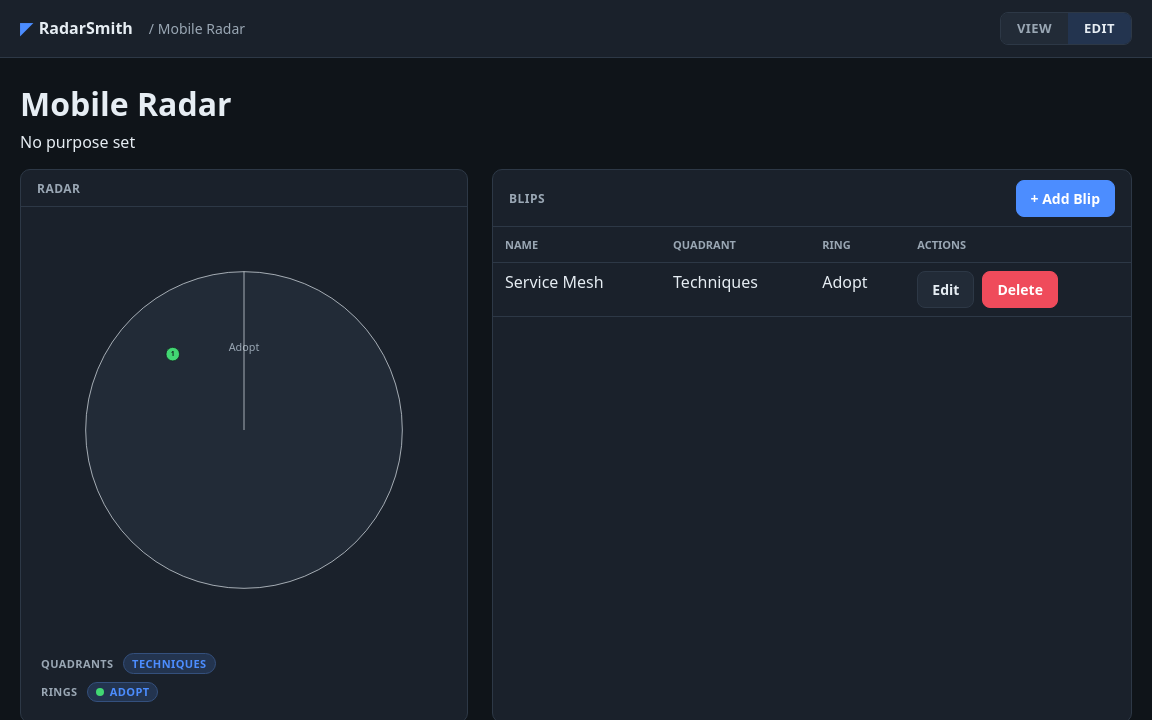
Test: RadarWorkspace › updates a blip in the table from the server-confirmed response
Expected: the cell "Service Mesh" is shown, [493,262,661,316]
Click the button named "Edit Service Mesh" at (946, 289), box [917,270,974,308]
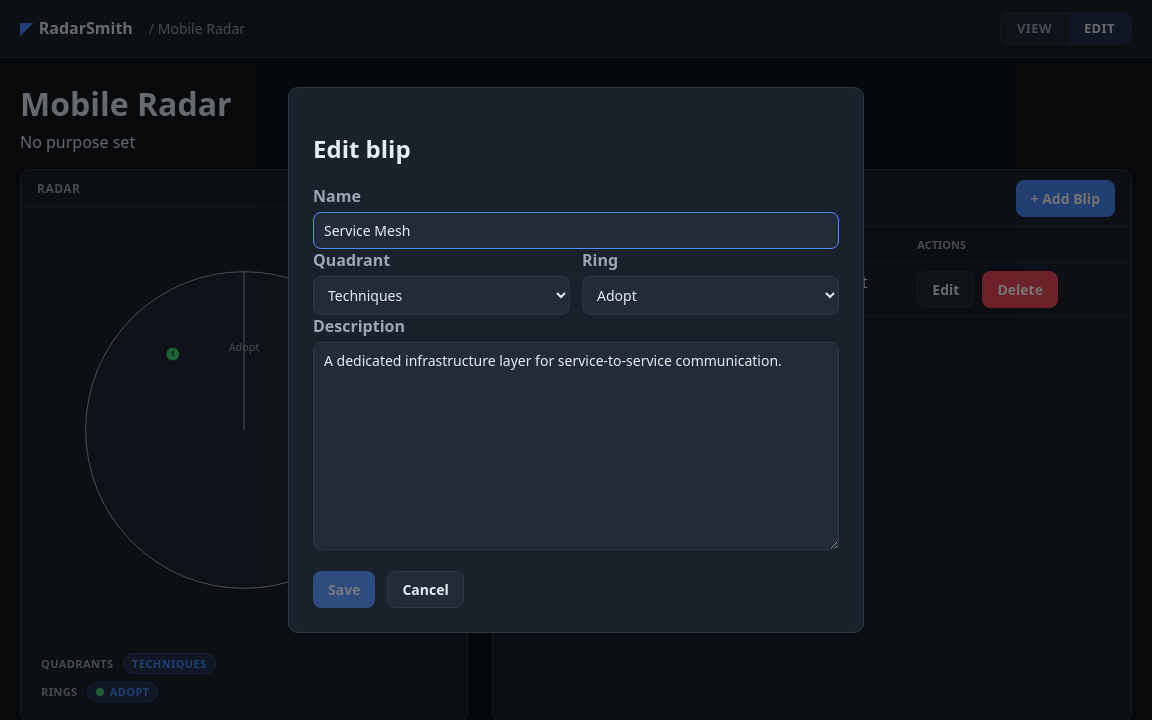
Replace the text in the field labelled "Name" with "Service Mesh v2" at (576, 230), box [313,212,839,249]
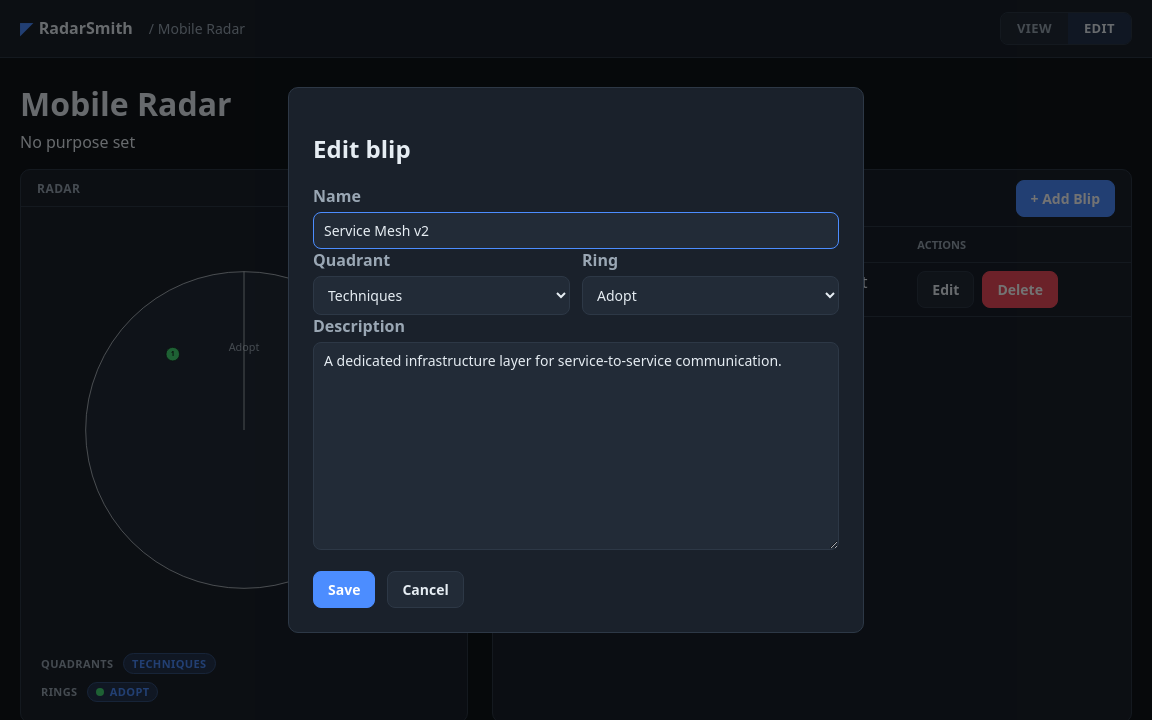
Click the button "Save" at (344, 589), box [313,571,375,608]
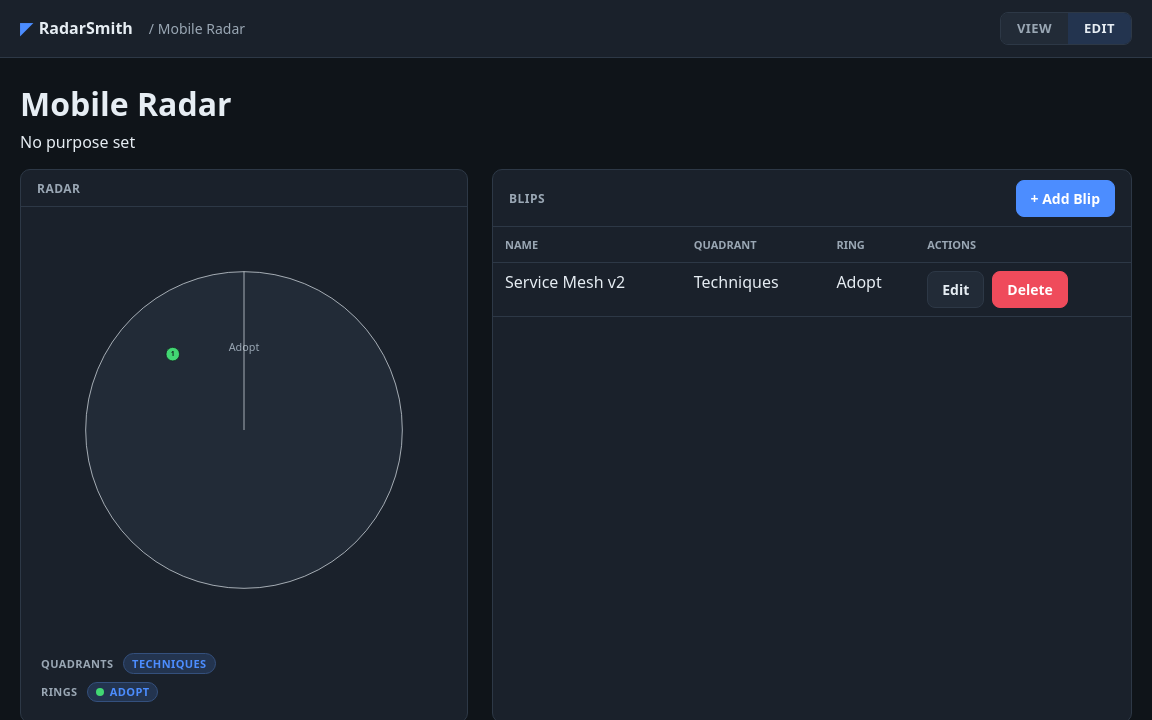
Now the cell "Service Mesh v2" is shown, box [493,262,682,316]
